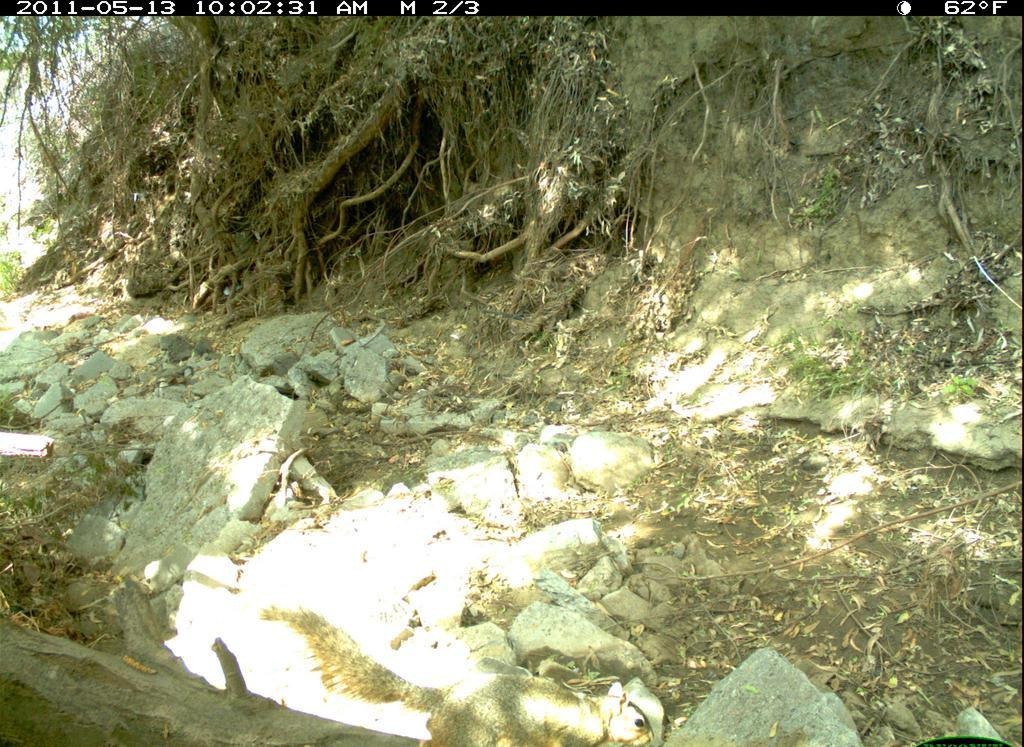squirrel: (258, 594, 666, 742)
